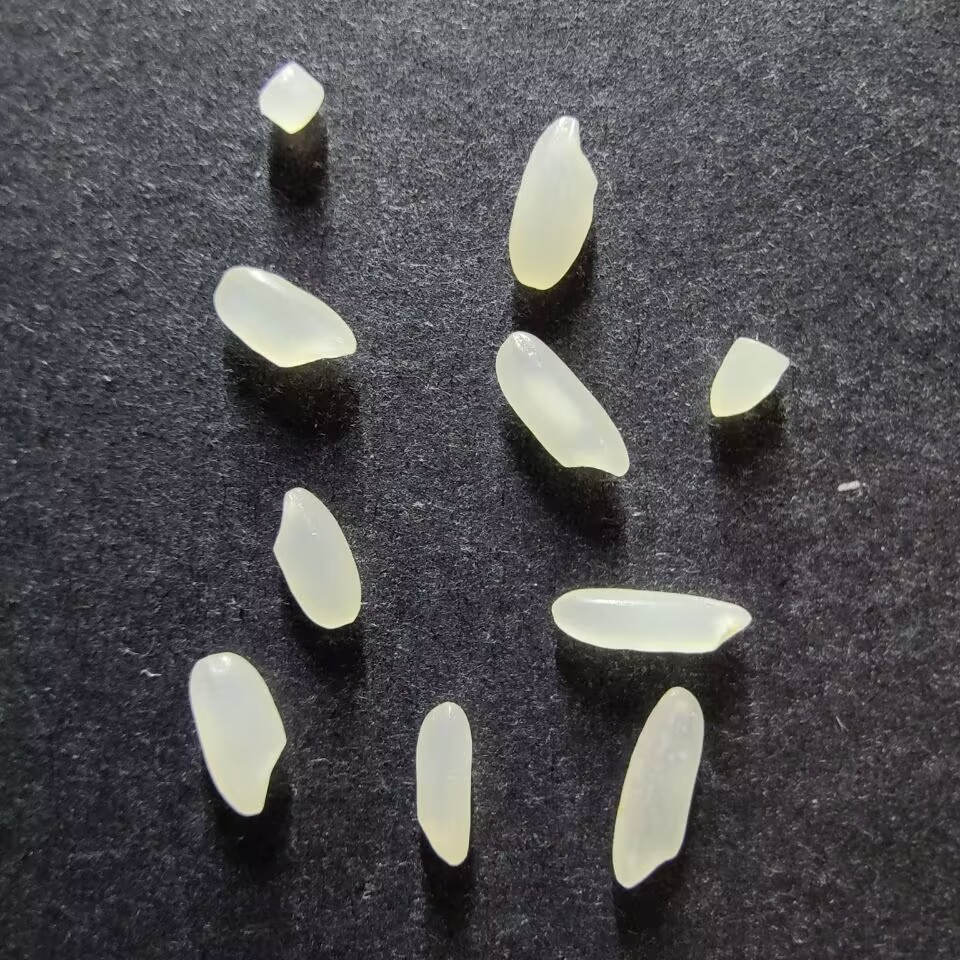broken: (708, 337, 791, 418), (259, 61, 325, 136)
rice: (494, 330, 630, 477), (611, 685, 704, 888), (187, 651, 286, 816), (507, 115, 597, 290), (213, 265, 357, 367), (550, 586, 751, 654), (271, 486, 361, 628), (413, 700, 472, 866)
